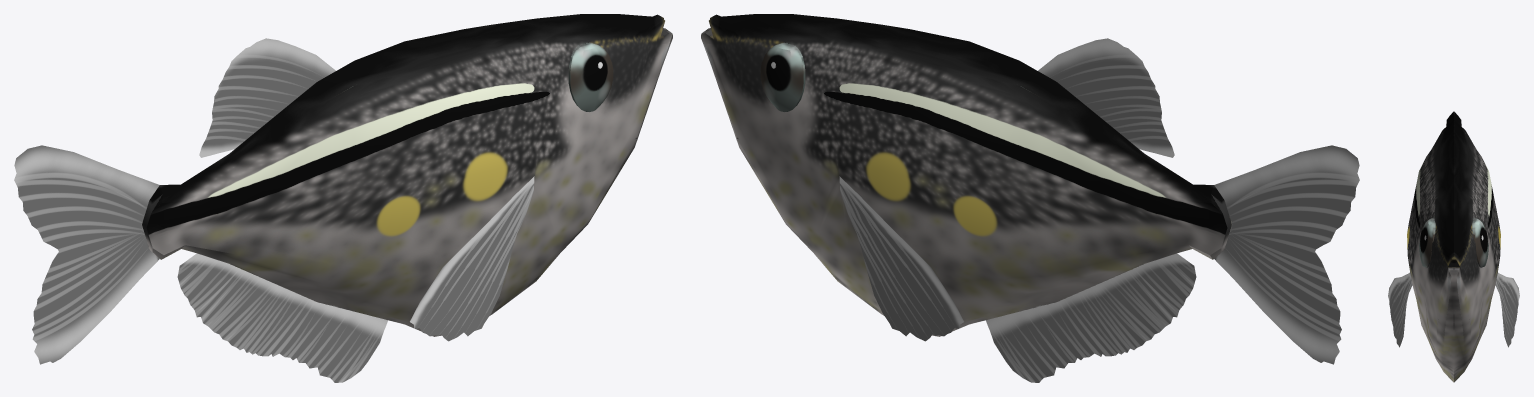
The model's file is ThreelightHatchetfish.glb.
The picture shows the model from 3 angles, left to right: view 1: azimuth 30°, elevation 25°; view 2: azimuth 150°, elevation 25°; view 3: azimuth 270°, elevation 25°; orthographic projection. The views are drawn at different scales.
Visible parts, largest first — view 1: Cube; view 2: Cube; view 3: Cube.
Part boxes in pixels (bbox=[...]): Cube: bbox=[14, 14, 672, 382]; Cube: bbox=[701, 14, 1359, 382]; Cube: bbox=[1388, 111, 1519, 382].
Bounding box in the file's own units: 3.28 × 1.73 × 0.7819.
1 material, 1 textured.
